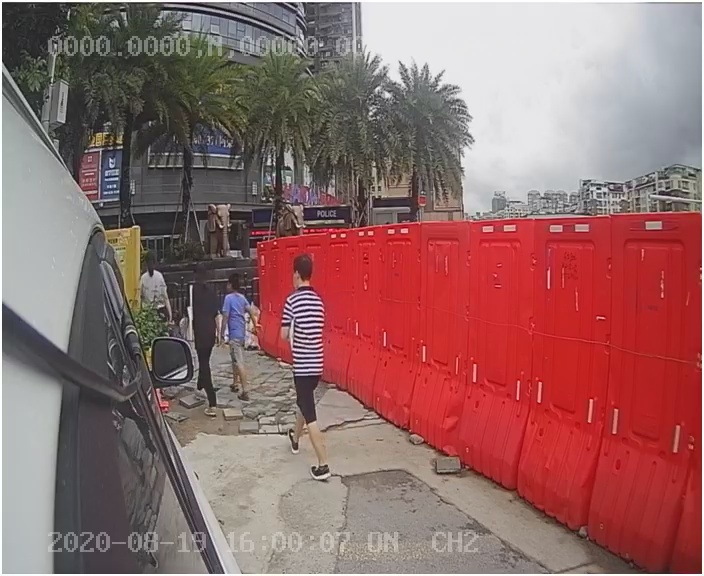person: (274, 251, 350, 489)
